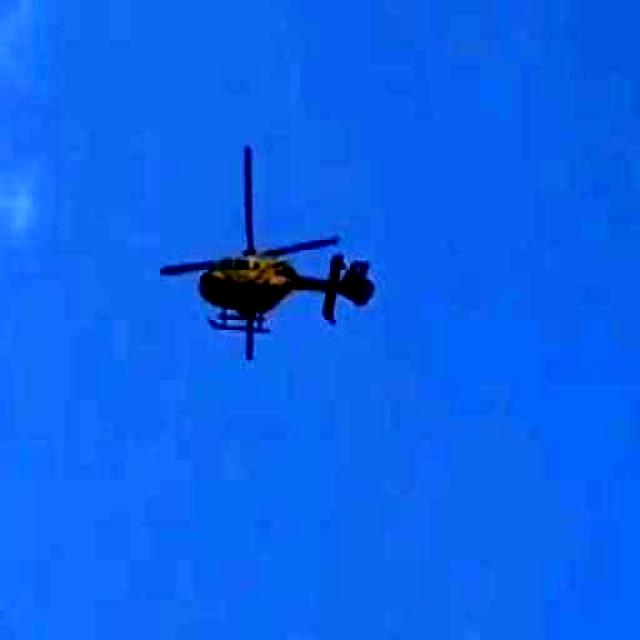drone: (124, 120, 406, 382)
